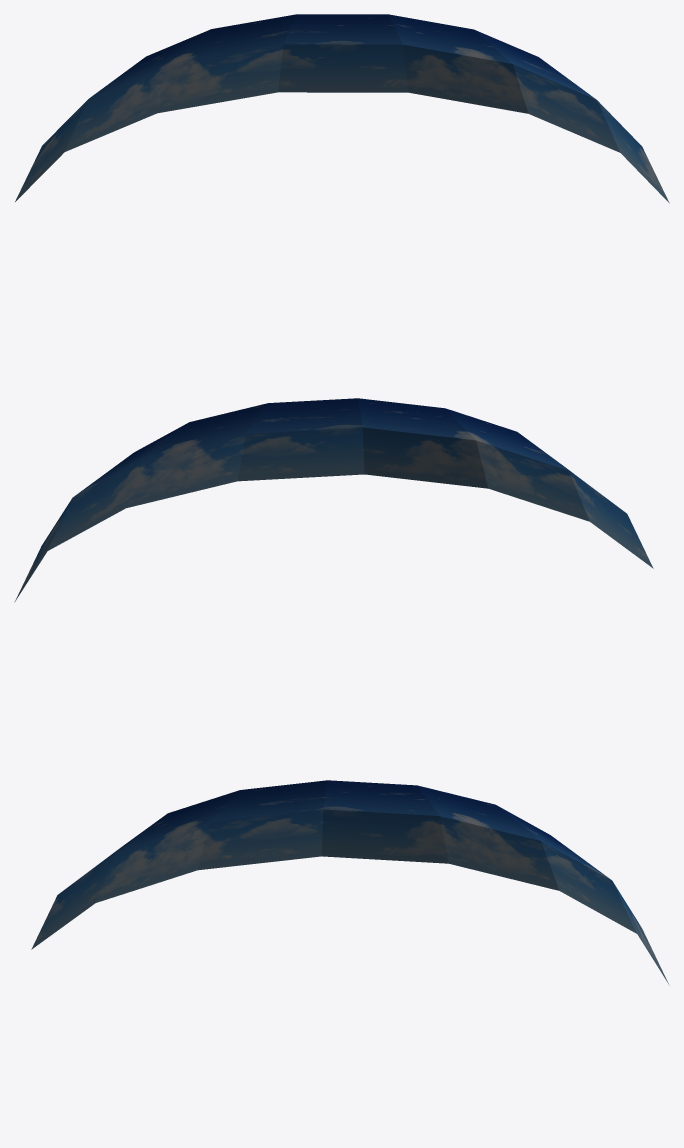
The model's file is vrcorn.glb.
3 views of the same model, one above another, from view 1: azimuth 30°, elevation 25°; view 2: azimuth 150°, elevation 25°; view 3: azimuth 270°, elevation 25° (orthographic).
Parts seen in each view (by area): view 1: polygon0; view 2: polygon0; view 3: polygon0.
Boxes of the visible parts, <box> form: polygon0: <box>15,14,669,203</box>; polygon0: <box>14,398,653,602</box>; polygon0: <box>31,780,668,984</box>.
Bounding box in the file's own units: 3145 × 857 × 3145.
Materials: 1 (1 with a texture image).
